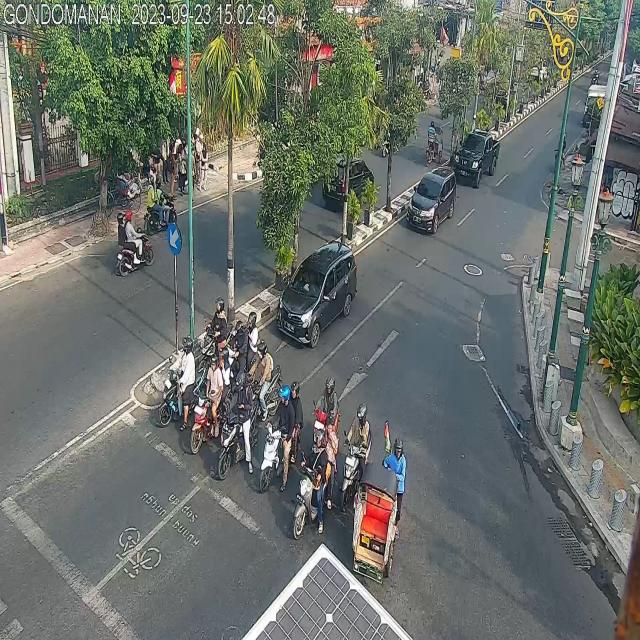car: (278, 242, 358, 346), (406, 165, 456, 235)
motorcycle: (342, 406, 371, 506)
